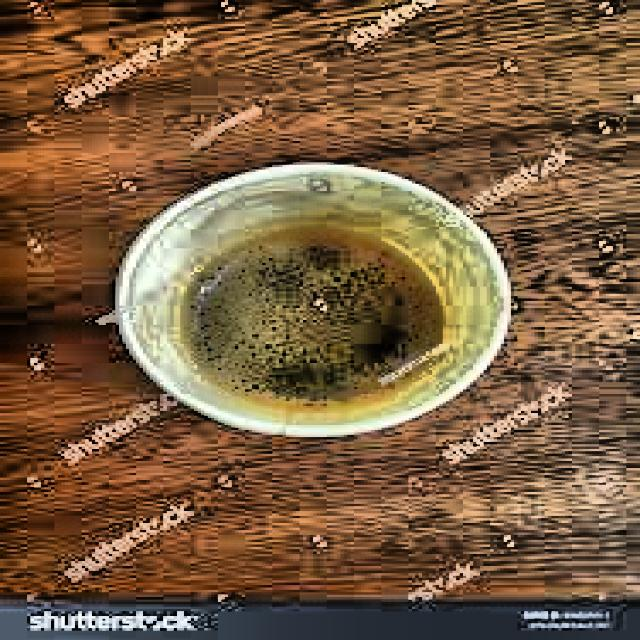Cup: (109, 160, 523, 468)
